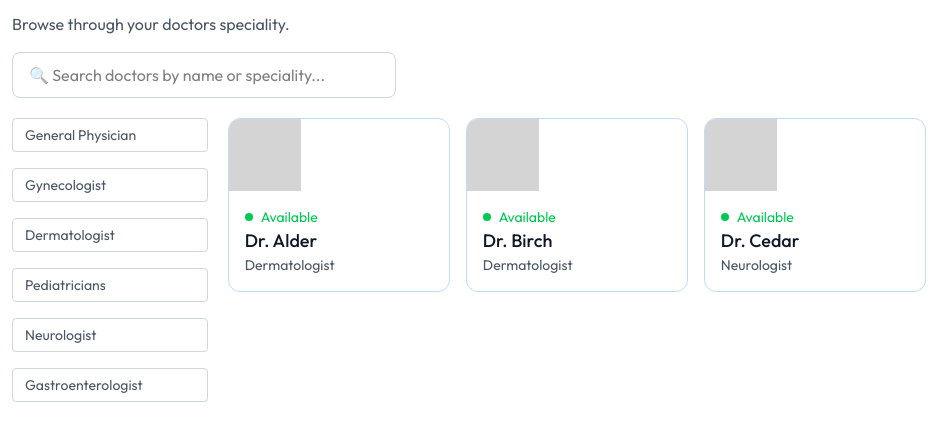
Test: Doctors › shows no doctor cards when nothing matches
Step 1. Type "zzzz" into the field with placeholder "🔍 Search doctors by name or speciality..." → {"x": 204, "y": 75}, box left=12, top=52, right=396, bottom=98
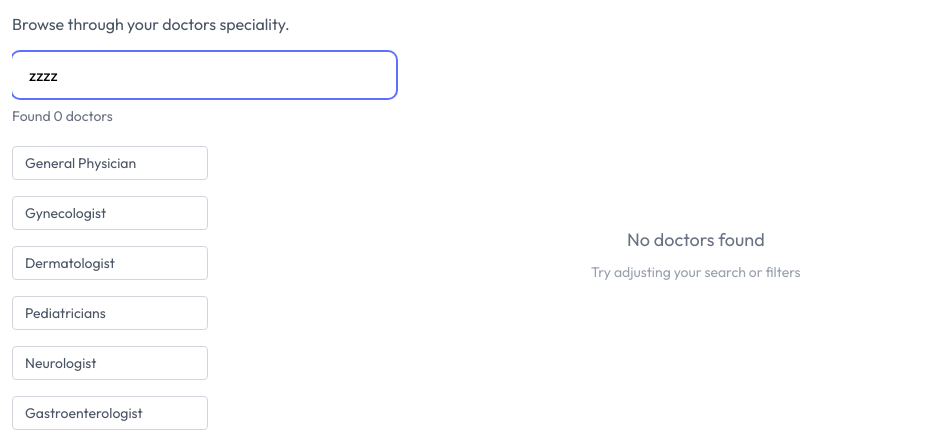
Check: the text "Dr. Alder" is gone
Check: the text "Dr. Birch" is gone
Check: the text "Dr. Cedar" is gone
